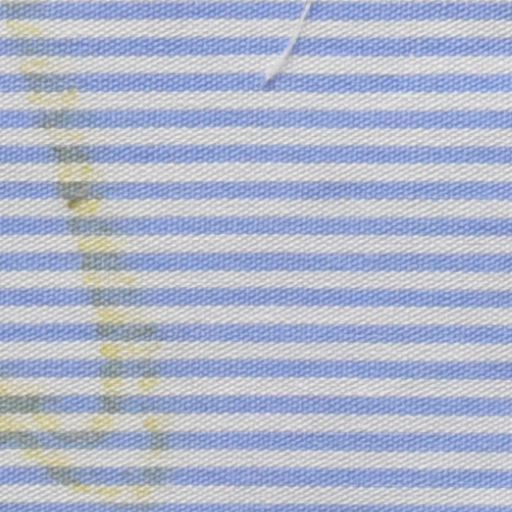defect: (1, 1, 168, 503), (264, 1, 319, 103)
